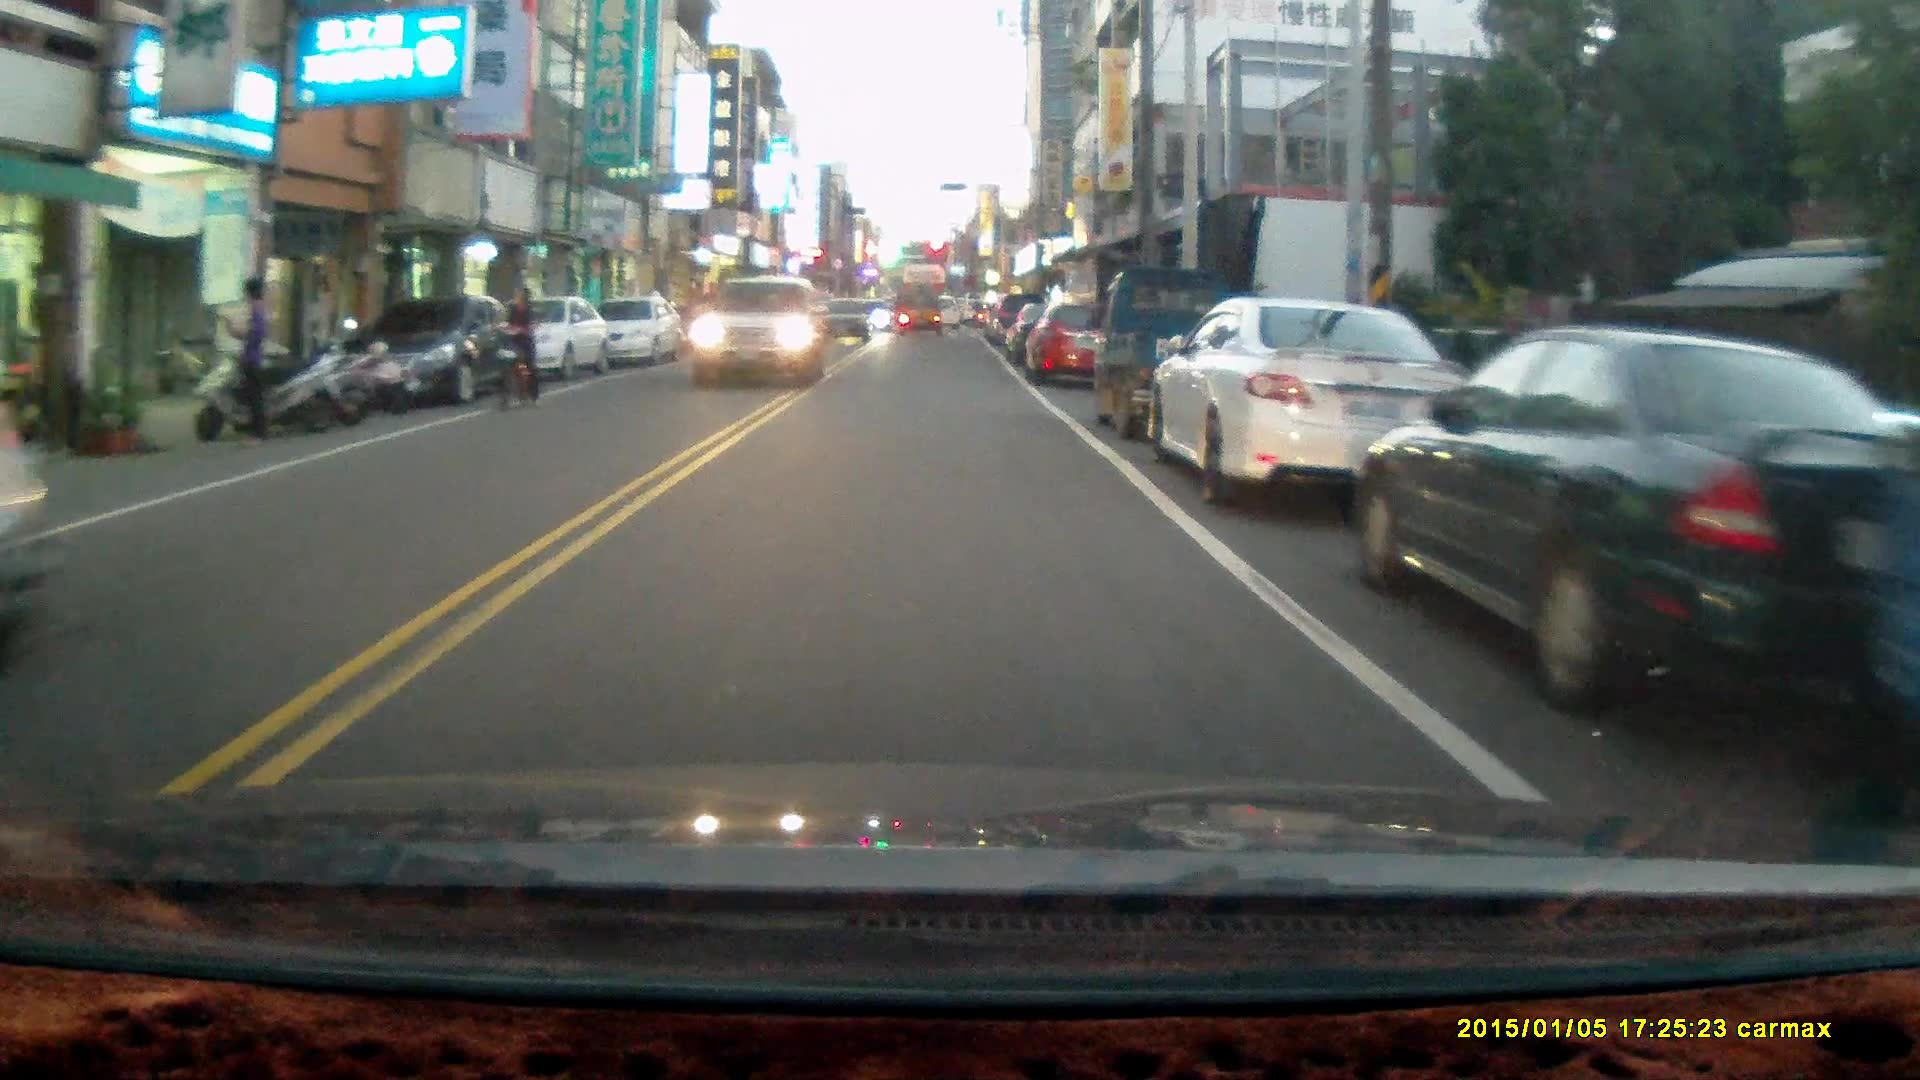pedestrian: (222, 273, 268, 452)
rider: (492, 283, 540, 413)
vehicle: (1351, 323, 1889, 727), (1142, 295, 1477, 507), (1092, 262, 1273, 449), (341, 288, 524, 404), (689, 279, 828, 386), (1025, 304, 1129, 388), (580, 297, 682, 366), (815, 297, 878, 347), (894, 283, 946, 339)
